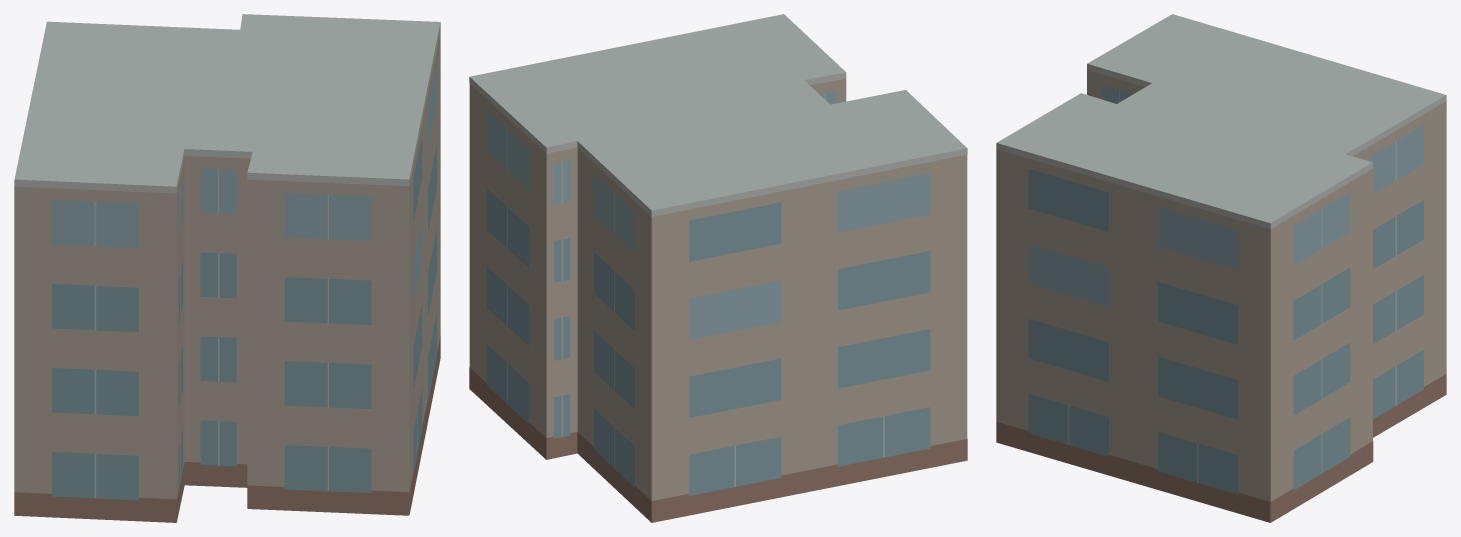
Rendered from survey-upis-32656782.glb.
3 views of the same model, side by side, from view 1: azimuth 30°, elevation 25°; view 2: azimuth 150°, elevation 25°; view 3: azimuth 270°, elevation 25° (orthographic). The views are drawn at different scales.
Parts seen in each view (by area): view 1: survey-upis-32656782.tmp; view 2: survey-upis-32656782.tmp; view 3: survey-upis-32656782.tmp.
Part boxes in pixels (x1=…): survey-upis-32656782.tmp: x1=14, y1=14, x2=440, y2=522; survey-upis-32656782.tmp: x1=469, y1=14, x2=967, y2=522; survey-upis-32656782.tmp: x1=996, y1=14, x2=1446, y2=522.
Bounding box in the file's own units: 17.95 × 11.98 × 16.32.
